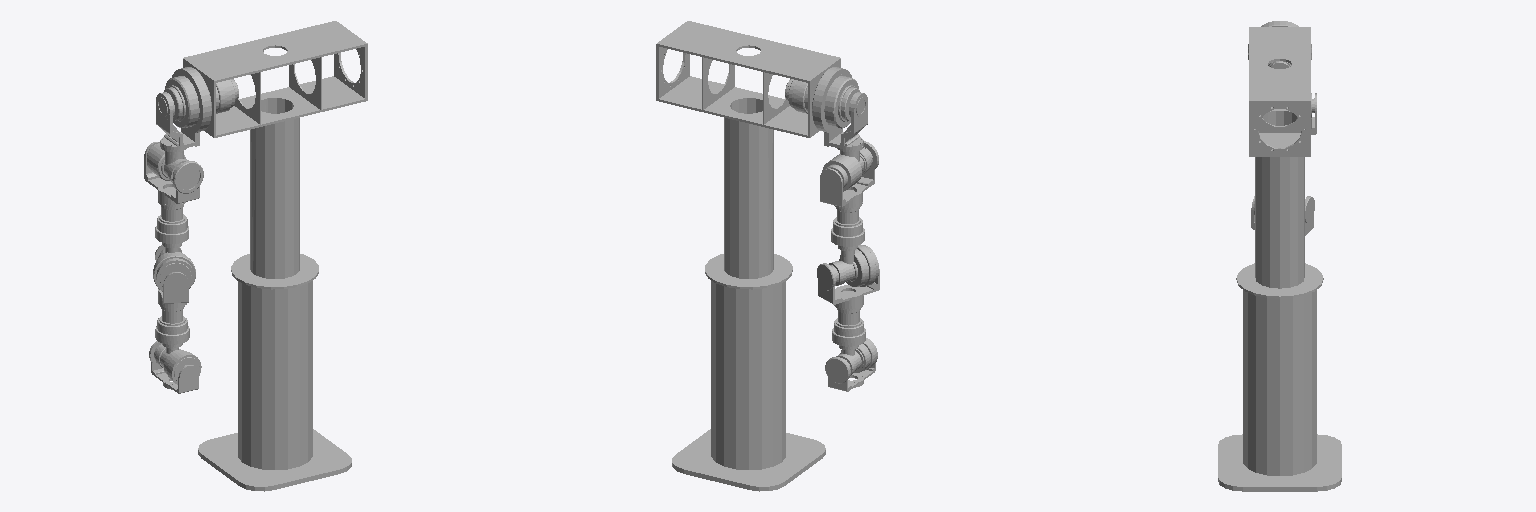
URDF robot description (aid):
<robot
  name="aid">
  <link
    name="base_Link">
    <inertial>
      <origin
        xyz="-0.065339 -1.9234E-15 0.93756"
        rpy="0 0 0" />
      <mass
        value="37.032" />
      <inertia
        ixx="14.546"
        ixy="-2.0675E-14"
        ixz="1.736"
        iyy="15.487"
        iyz="5.0978E-14"
        izz="1.5176" />
    </inertial>
    <visual>
      <origin
        xyz="0 0 0"
        rpy="0 0 0" />
      <geometry>
        <mesh
          filename="package://aid/meshes/L0.STL" />
      </geometry>
      <material
        name="">
        <color
          rgba="0.75294 0.75294 0.75294 1" />
      </material>
    </visual>
    <collision>
      <origin
        xyz="0 0 0"
        rpy="0 0 0" />
      <geometry>
        <mesh
          filename="package://aid/meshes/L0.STL" />
      </geometry>
    </collision>
  </link>
  <link
    name="bigarm_Link">
    <inertial>
      <origin
        xyz="0.01517 -0.19923 -0.016519"
        rpy="0 0 0" />
      <mass
        value="38.9" />
      <inertia
        ixx="0.69607"
        ixy="-0.10626"
        ixz="-0.0097479"
        iyy="0.23375"
        iyz="-0.048863"
        izz="0.59973" />
    </inertial>
    <visual>
      <origin
        xyz="0 0 0"
        rpy="0 0 0" />
      <geometry>
        <mesh
          filename="package://aid/meshes/L1.STL" />
      </geometry>
      <material
        name="">
        <color
          rgba="0.75294 0.75294 0.75294 1" />
      </material>
    </visual>
    <collision>
      <origin
        xyz="0 0 0"
        rpy="0 0 0" />
      <geometry>
        <mesh
          filename="package://aid/meshes/L1.STL" />
      </geometry>
    </collision>
  </link>
  <joint
    name="shoulder_joint"
    type="revolute">
    <origin
      xyz="-0.4605 0 1.655"
      rpy="1.5708 0 0" />
    <parent
      link="base_Link" />
    <child
      link="bigarm_Link" />
    <axis
      xyz="1 0 0" />
    <limit
      lower="-3.1416"
      upper="3.1416"
      effort="1000"
      velocity="3.1416" />
  </joint>
  <link
    name="elbow_Link">
    <inertial>
      <origin
        xyz="1.6653E-16 -0.064421 0.015667"
        rpy="0 0 0" />
      <mass
        value="11.18" />
      <inertia
        ixx="0.14822"
        ixy="8.3834E-17"
        ixz="7.8495E-18"
        iyy="0.12818"
        iyz="-0.012852"
        izz="0.044066" />
    </inertial>
    <visual>
      <origin
        xyz="0 0 0"
        rpy="0 0 0" />
      <geometry>
        <mesh
          filename="package://aid/meshes/L2.STL" />
      </geometry>
      <material
        name="">
        <color
          rgba="0.75294 0.75294 0.75294 1" />
      </material>
    </visual>
    <collision>
      <origin
        xyz="0 0 0"
        rpy="0 0 0" />
      <geometry>
        <mesh
          filename="package://aid/meshes/L2.STL" />
      </geometry>
    </collision>
  </link>
  <joint
    name="bigarm_joint"
    type="revolute">
    <origin
      xyz="0 -0.275 -0.015"
      rpy="0 0 0" />
    <parent
      link="bigarm_Link" />
    <child
      link="elbow_Link" />
    <axis
      xyz="0 0 1" />
    <limit
      lower="-2.4"
      upper="2.4"
      effort="1000"
      velocity="3.1416" />
  </joint>
  <link
    name="forearm_Link">
    <inertial>
      <origin
        xyz="0.0061768 0.014912 0.020282"
        rpy="0 0 0" />
      <mass
        value="16.17" />
      <inertia
        ixx="0.232059974154934"
        ixy="-0.005837242059444"
        ixz="-0.008987732435557"
        iyy="0.220384023668639"
        iyz="-0.021698571720057"
        izz="0.049915146568727" />
    </inertial>
    <visual>
      <origin
        xyz="0 0 0"
        rpy="0 0 0" />
      <geometry>
        <mesh
          filename="package://aid/meshes/L3.STL" />
      </geometry>
      <material
        name="">
        <color
          rgba="0.75294 0.75294 0.75294 1" />
      </material>
    </visual>
    <collision>
      <origin
        xyz="0 0 0"
        rpy="0 0 0" />
      <geometry>
        <mesh
          filename="package://aid/meshes/L3.STL" />
      </geometry>
    </collision>
  </link>
  <joint
    name="elbow_joint"
    type="revolute">
    <origin
      xyz="0 -0.332 0"
      rpy="1.5708 -0.7854 0" />
    <parent
      link="elbow_Link" />
    <child
      link="forearm_Link" />
    <axis
      xyz="0 0 -1" />
    <limit
      lower="-3.1416"
      upper="3.1416"
      effort="800"
      velocity="3.1416" />
  </joint>
  <link
    name="wrist1_Link">
    <inertial>
      <origin
        xyz="-3.3307E-15 -0.071299 -0.012584"
        rpy="0 0 0" />
      <mass
        value="10.14" />
      <inertia
        ixx="0.10127"
        ixy="1.077E-15"
        ixz="-2.5356E-15"
        iyy="0.08693"
        iyz="0.010069"
        izz="0.034066" />
    </inertial>
    <visual>
      <origin
        xyz="0 0 0"
        rpy="0 0 0" />
      <geometry>
        <mesh
          filename="package://aid/meshes/L4.STL" />
      </geometry>
      <material
        name="">
        <color
          rgba="0.75294 0.75294 0.75294 1" />
      </material>
    </visual>
    <collision>
      <origin
        xyz="0 0 0"
        rpy="0 0 0" />
      <geometry>
        <mesh
          filename="package://aid/meshes/L4.STL" />
      </geometry>
    </collision>
  </link>
  <joint
    name="wrist1_joint"
    type="revolute">
    <origin
      xyz="0.0019134 0.0046194 0.11"
      rpy="-1.5708 0 -0.3927" />
    <parent
      link="forearm_Link" />
    <child
      link="wrist1_Link" />
    <axis
      xyz="0 0 1" />
    <limit
      lower="-2.4"
      upper="2.4"
      effort="600"
      velocity="3.1416" />
  </joint>
  <link
    name="wrist2_Link">
    <inertial>
      <origin
        xyz="0.0071606 -0.17208 0.017287"
        rpy="0 0 0" />
      <mass
        value="10.91" />
      <inertia
        ixx="0.124071088191495"
        ixy="0.006790844685897"
        ixz="-0.005624086647179"
        iyy="0.033104277204787"
        iyz="0.016394484860184"
        izz="0.112821711433457" />
    </inertial>
    <visual>
      <origin
        xyz="0 0 0"
        rpy="0 0 0" />
      <geometry>
        <mesh
          filename="package://aid/meshes/L5.STL" />
      </geometry>
      <material
        name="">
        <color
          rgba="0.75294 0.75294 0.75294 1" />
      </material>
    </visual>
    <collision>
      <origin
        xyz="0 0 0"
        rpy="0 0 0" />
      <geometry>
        <mesh
          filename="package://aid/meshes/L5.STL" />
      </geometry>
    </collision>
  </link>
  <joint
    name="wrist2_joint"
    type="revolute">
    <origin
      xyz="0 -0.145 0"
      rpy="0 -8.6098E-14 0" />
    <parent
      link="wrist1_Link" />
    <child
      link="wrist2_Link" />
    <axis
      xyz="0 1 0" />
    <limit
      lower="-3.1416"
      upper="3.1416"
      effort="400"
      velocity="3.1416" />
  </joint>
  <link
    name="palm_Link">
    <inertial>
      <origin
        xyz="-0.024868 -0.0455 -4.6629E-15"
        rpy="0 0 0" />
      <mass
        value="5.91" />
      <inertia
        ixx="0.014677242234883"
        ixy="0.006892601314097"
        ixz="-8.11009281382099E-15"
        iyy="0.050065553207131"
        iyz="-4.66386004410954E-15"
        izz="0.05589707544569" />
    </inertial>
    <visual>
      <origin
        xyz="0 0 0"
        rpy="0 0 0" />
      <geometry>
        <mesh
          filename="package://aid/meshes/L6.STL" />
      </geometry>
      <material
        name="">
        <color
          rgba="0.75294 0.75294 0.75294 1" />
      </material>
    </visual>
    <collision>
      <origin
        xyz="0 0 0"
        rpy="0 0 0" />
      <geometry>
        <mesh
          filename="package://aid/meshes/L6.STL" />
      </geometry>
    </collision>
  </link>
  <joint
    name="palm_joint"
    type="revolute">
    <origin
      xyz="0.0082277 -0.259 0.019863"
      rpy="0 -1.1781 0" />
    <parent
      link="wrist2_Link" />
    <child
      link="palm_Link" />
    <axis
      xyz="1 0 0" />
    <limit
      lower="-2.4"
      upper="2.4"
      effort="200"
      velocity="3.1416" />
  </joint>
  <link name="world"/>
  <joint
    name="virtual_robot_mount_joint"
    type="fixed">
    <origin
      xyz="0.00 0.0 0.0"
      rpy="0 0 0" />
    <parent
      link="world" />
    <child
      link="base_Link" />
  </joint>

  <link name="ee_Link"/>
  <joint
    name="virtual_ee_mount_joint"
    type="fixed">
    <origin
      xyz="0.00 -0.097 0.0"
      rpy="0 0 0" />
    <parent
      link="palm_Link" />
    <child
      link="ee_Link" />
  </joint>
  <!--////////////////////////////////// Transmissions for ROS Control //////////////////////////-->
  <transmission name="shoulder_joint_trans">
    <type>transmission_interface/SimpleTransmission</type>
    <joint name="shoulder_joint">
      <hardwareInterface>hardware_interface/PositionJointInterface</hardwareInterface>
    </joint>
    <actuator name="shoulder_joint_motor">
      <mechanicalReduction>1</mechanicalReduction>
    </actuator>
  </transmission>
  <transmission name="bigarm_joint_trans">
    <type>transmission_interface/SimpleTransmission</type>
    <joint name="bigarm_joint">
      <hardwareInterface>hardware_interface/PositionJointInterface</hardwareInterface>
    </joint>
    <actuator name="bigarm_joint_motor">
      <mechanicalReduction>1</mechanicalReduction>
    </actuator>
  </transmission>
  <transmission name="elbow_joint_trans">
    <type>transmission_interface/SimpleTransmission</type>
    <joint name="elbow_joint">
      <hardwareInterface>hardware_interface/PositionJointInterface</hardwareInterface>
    </joint>
    <actuator name="elbow_joint_motor">
      <mechanicalReduction>1</mechanicalReduction>
    </actuator>
  </transmission>
  <transmission name="wrist1_joint_trans">
    <type>transmission_interface/SimpleTransmission</type>
    <joint name="wrist1_joint">
      <hardwareInterface>hardware_interface/PositionJointInterface</hardwareInterface>
    </joint>
    <actuator name="wrist1_joint_motor">
      <mechanicalReduction>1</mechanicalReduction>
    </actuator>
  </transmission>
  <transmission name="wrist2_joint_trans">
    <type>transmission_interface/SimpleTransmission</type>
    <joint name="wrist2_joint">
      <hardwareInterface>hardware_interface/PositionJointInterface</hardwareInterface>
    </joint>
    <actuator name="wrist2_joint_motor">
      <mechanicalReduction>1</mechanicalReduction>
    </actuator>
  </transmission>
  <transmission name="palm_joint_trans">
    <type>transmission_interface/SimpleTransmission</type>
    <joint name="palm_joint">
      <hardwareInterface>hardware_interface/PositionJointInterface</hardwareInterface>
    </joint>
    <actuator name="palm_joint_motor">
      <mechanicalReduction>1</mechanicalReduction>
    </actuator>
  </transmission>
  <!-- ros_control plugin -->
  <gazebo>
    <plugin filename="libgazebo_ros_control.so" name="gazebo_ros_control">
      <robotNamespace>/aid</robotNamespace>
      <robotSimType>gazebo_ros_control/DefaultRobotHWSim</robotSimType>
      <legacyModeNS>true</legacyModeNS>
    </plugin>
  </gazebo>
</robot>

--- Render facts (derived) ---
The picture shows the robot from 3 angles, left to right: view 1: azimuth 30°, elevation 25°; view 2: azimuth 150°, elevation 25°; view 3: azimuth 270°, elevation 25°; orthographic projection.
Model aid with 9 links and 8 joints (6 revolute, 2 fixed), rooted at world, posed all joints at 0.
Visible links, largest first — view 1: base_Link, bigarm_Link, forearm_Link, wrist2_Link, elbow_Link, wrist1_Link, palm_Link; view 2: base_Link, bigarm_Link, forearm_Link, wrist2_Link, elbow_Link, wrist1_Link, palm_Link; view 3: base_Link.
Boxes of the visible links, box(x1,y1,x2,y2) form: base_Link: box(156, 21, 367, 491); bigarm_Link: box(147, 67, 211, 182); forearm_Link: box(153, 187, 195, 291); wrist2_Link: box(154, 303, 201, 384); elbow_Link: box(144, 142, 203, 204); wrist1_Link: box(155, 245, 188, 306); palm_Link: box(149, 341, 198, 393); base_Link: box(656, 21, 867, 491); bigarm_Link: box(812, 67, 872, 191); forearm_Link: box(829, 190, 878, 286); wrist2_Link: box(832, 291, 877, 375); elbow_Link: box(820, 141, 878, 207); wrist1_Link: box(817, 263, 879, 308); palm_Link: box(825, 357, 875, 391); base_Link: box(1218, 27, 1341, 491).
Bounding box of the posed robot: 0.9184 × 0.5 × 1.78 m (x, y, z).
7 mesh visuals loaded from 7 distinct referenced files (7 binary STL).